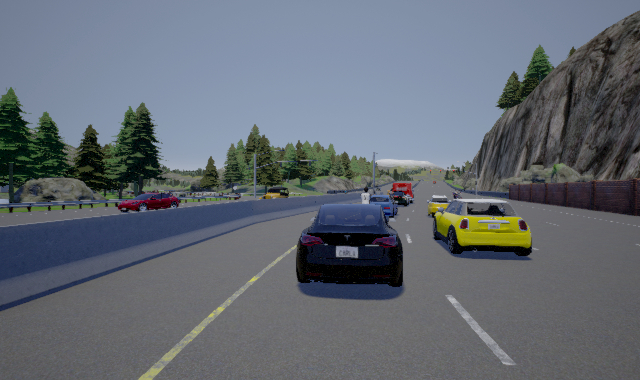traffic_light: (475, 181, 477, 185), (453, 170, 455, 173)
vehicle: (296, 203, 402, 288), (434, 198, 532, 256), (118, 193, 179, 212), (367, 193, 398, 218), (257, 186, 291, 201), (426, 194, 451, 214)
